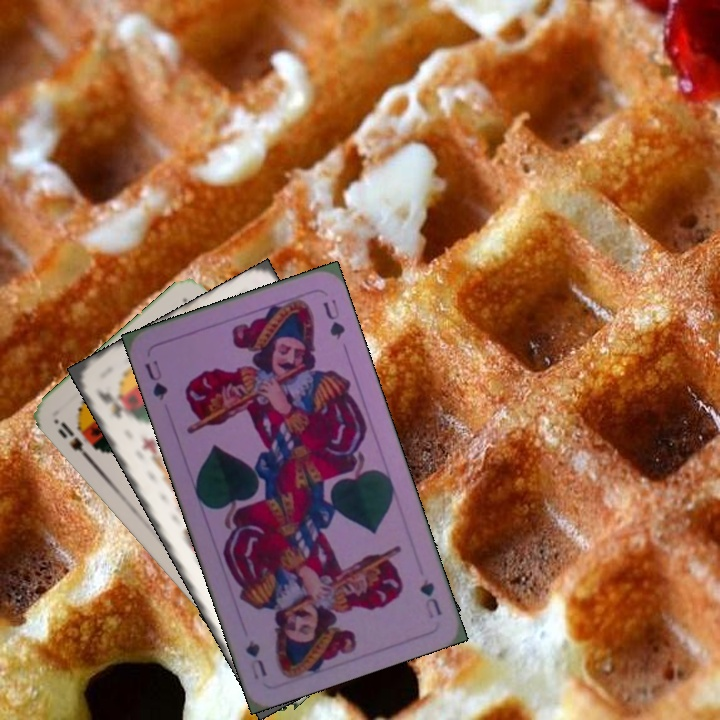GU: (140, 356, 171, 403), (416, 575, 445, 621)
SK: (92, 384, 128, 421)
SO: (52, 417, 96, 466)
